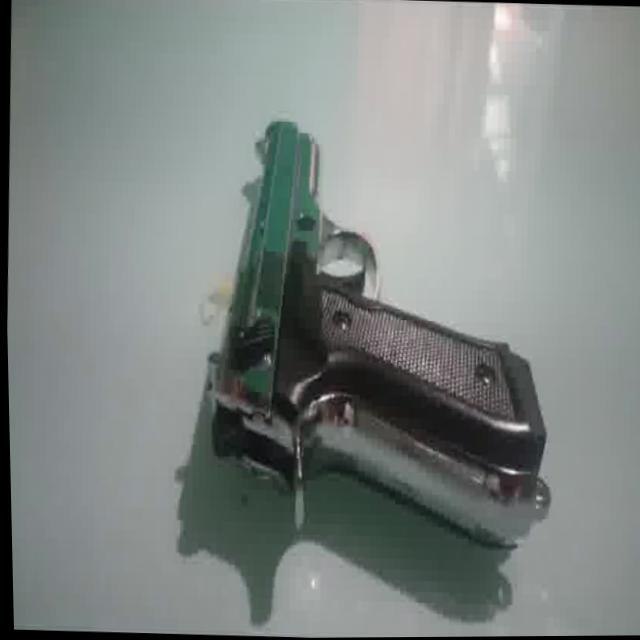weapon: (192, 114, 562, 554)
